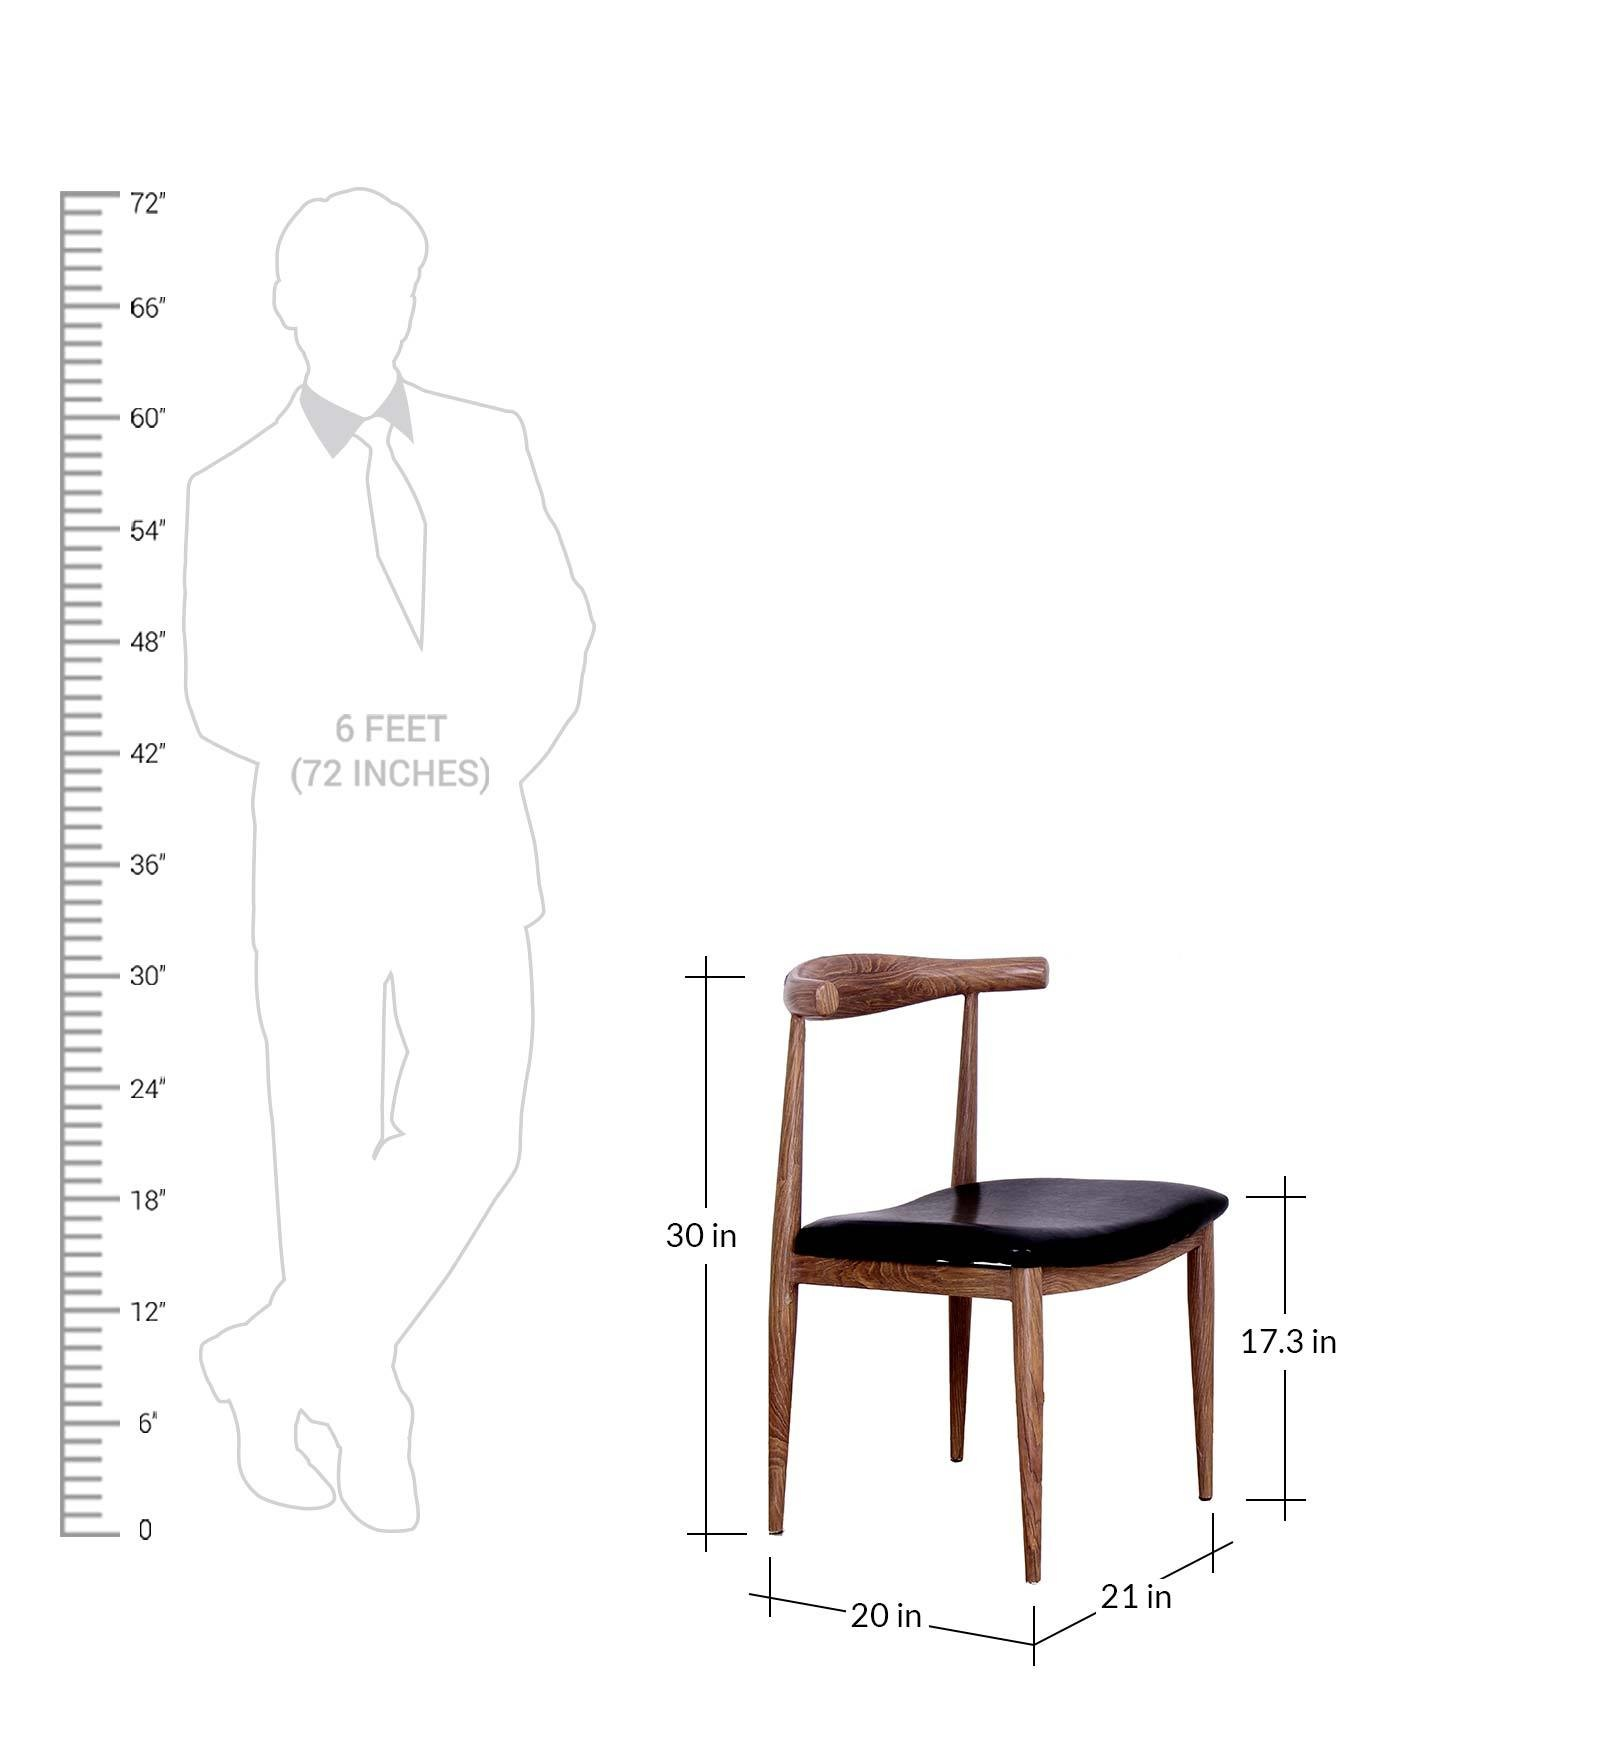Sherman Metal Chair (Set of 2) in Wooden Finish by Bohemiana: (745, 905, 1240, 1605)
